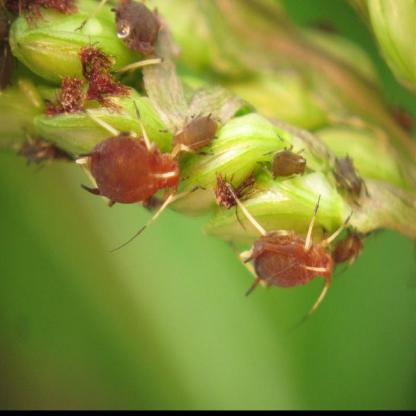aphid: (70, 115, 181, 226), (241, 203, 334, 312), (172, 105, 227, 162), (330, 146, 377, 208), (269, 130, 311, 196), (328, 215, 372, 273)
